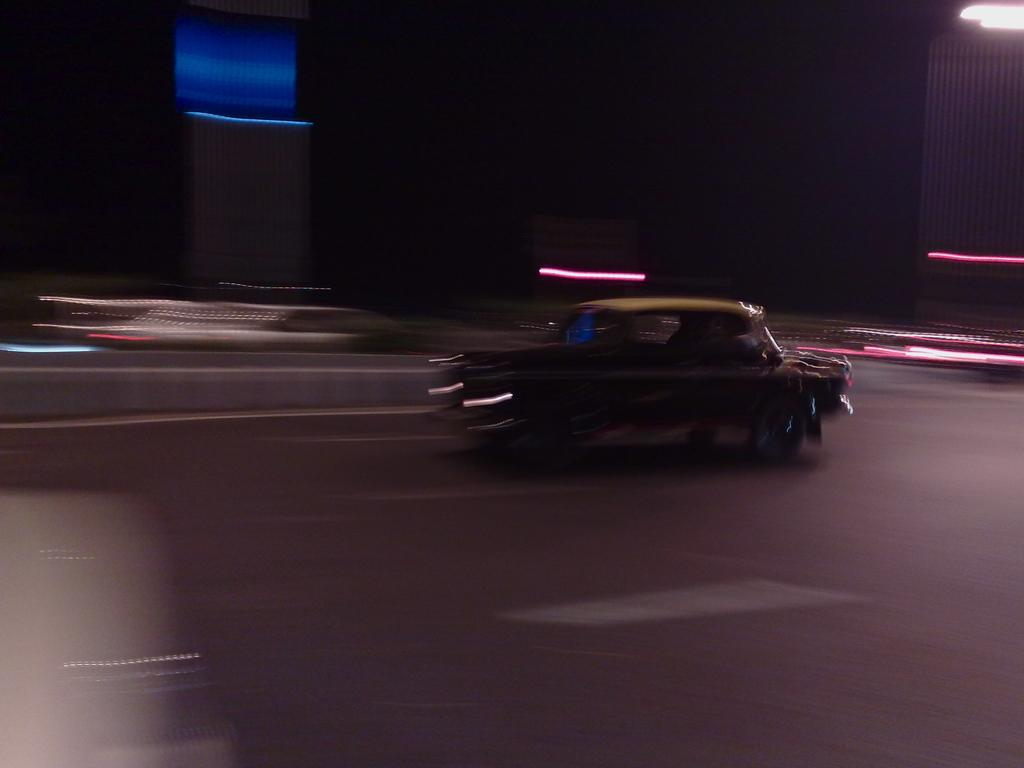Car: (445, 298, 852, 463)
